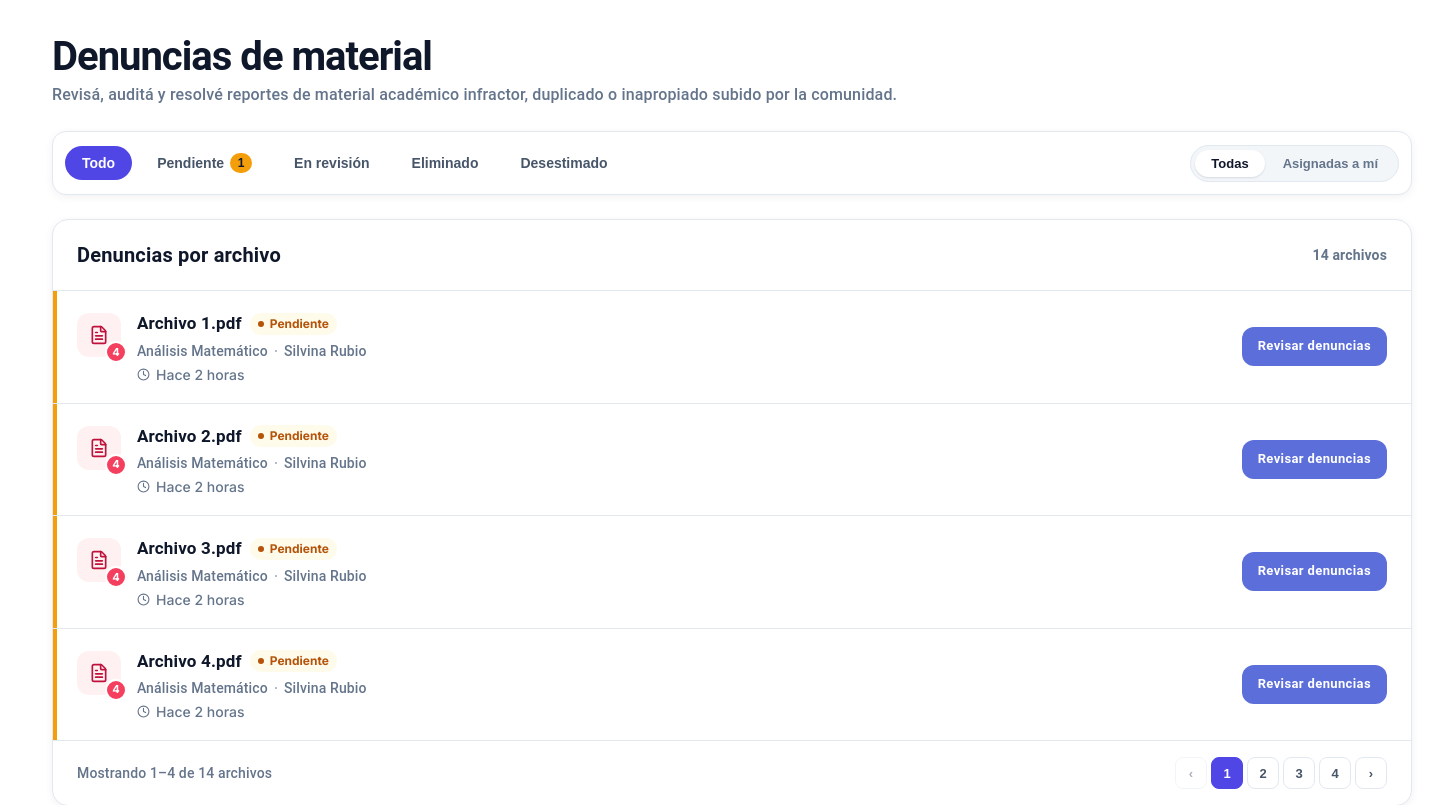
Scenario: AdminMaterialReportsPage › sincroniza el filtro de asignación con la URL
Expected: the text "Archivo 1.pdf" is shown, [137,311,242,336]
Click the button "Asignadas a mí". click: (1330, 163)
box: [1267,150,1394,176]
(page scrolled)
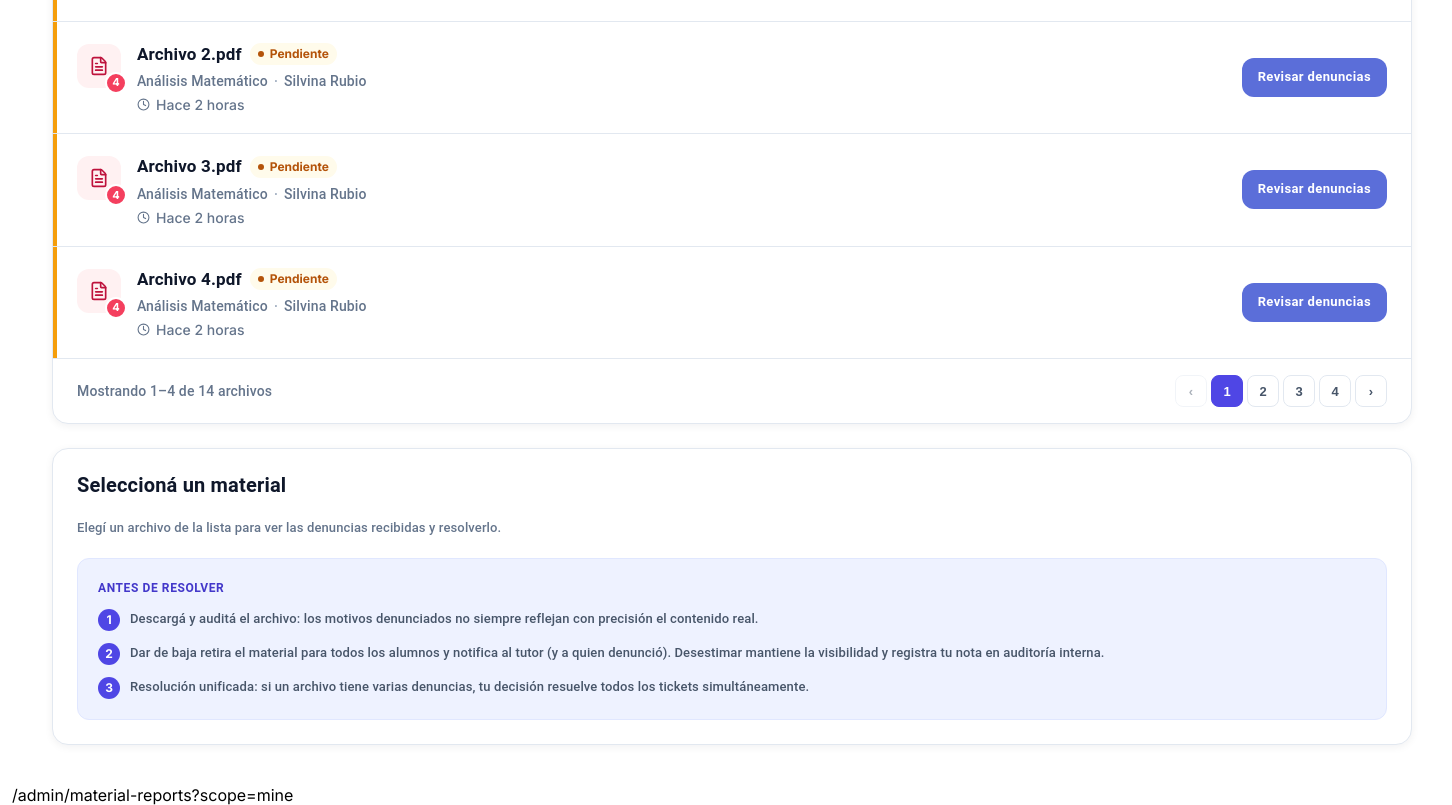
Now the text with test id "location" shows "scope=mine", box [12,784,293,804]
